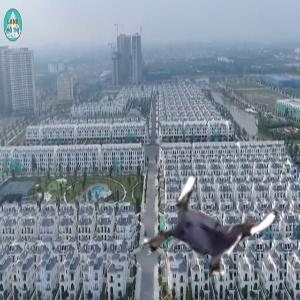drone: (148, 169, 272, 293)
